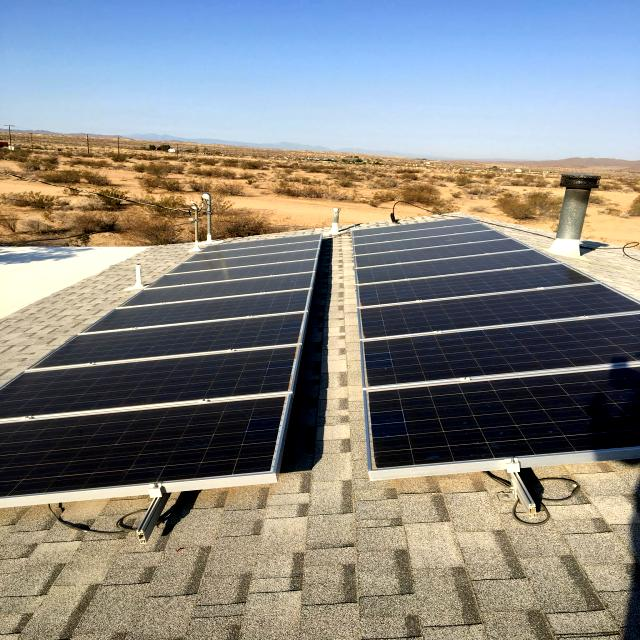dust: (417, 278, 561, 372), (67, 406, 243, 480), (112, 306, 236, 398), (410, 382, 544, 446)
